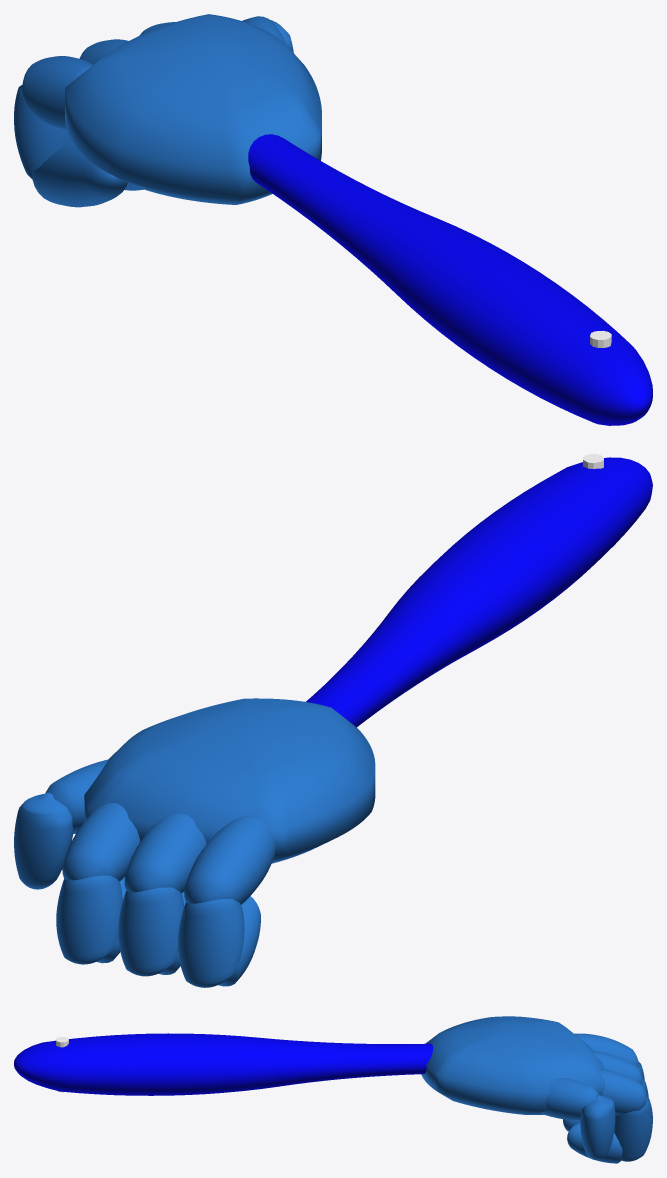
The model's file is hand_left_bot.obj.
3 views of the same model, one above another, from view 1: azimuth 30°, elevation 25°; view 2: azimuth 150°, elevation 25°; view 3: azimuth 270°, elevation 25° (orthographic). The views are drawn at different scales.
Visible parts, largest first — view 1: Mesh1 Component_6_1 Component_35_1 Component_1_1 Model, Mesh13 Component_14_1 mao1 Component_35_1 Component_1_1 Model, Mesh12 Component_12_3 Group4 mao1 Component_35_1 Component_1_1 M, Mesh10 Component_11_6 Group4 mao1 Component_35_1 Component_1_1 M, Mesh11 Component_11_7 Group4 mao1 Component_35_1 Component_1_1 M, Mesh7 Component_11_4 Group3 mao1 Component_35_1 Component_1_1 Mo; view 2: Mesh1 Component_6_1 Component_35_1 Component_1_1 Model, Mesh13 Component_14_1 mao1 Component_35_1 Component_1_1 Model, Mesh10 Component_11_6 Group4 mao1 Component_35_1 Component_1_1 M, Mesh11 Component_11_7 Group4 mao1 Component_35_1 Component_1_1 M, Mesh5 Component_11_3 Group2 mao1 Component_35_1 Component_1_1 Mo, Mesh8 Component_11_5 Group3 mao1 Component_35_1 Component_1_1 Mo, Mesh3 Component_10_1 Group1 mao1 Component_35_1 Component_1_1 Mo, Mesh7 Component_11_4 Group3 mao1 Component_35_1 Component_1_1 Mo, Mesh4 Component_11_2 Group2 mao1 Component_35_1 Component_1_1 Mo, Mesh2 Component_11_1 Group1 mao1 Component_35_1 Component_1_1 Mo, Mesh12 Component_12_3 Group4 mao1 Component_35_1 Component_1_1 M; view 3: Mesh1 Component_6_1 Component_35_1 Component_1_1 Model, Mesh13 Component_14_1 mao1 Component_35_1 Component_1_1 Model, Mesh3 Component_10_1 Group1 mao1 Component_35_1 Component_1_1 Mo, Mesh5 Component_11_3 Group2 mao1 Component_35_1 Component_1_1 Mo, Mesh2 Component_11_1 Group1 mao1 Component_35_1 Component_1_1 Mo, Mesh4 Component_11_2 Group2 mao1 Component_35_1 Component_1_1 Mo, Mesh10 Component_11_6 Group4 mao1 Component_35_1 Component_1_1 M, Mesh6 Component_12_1 Group2 mao1 Component_35_1 Component_1_1 Mo, Mesh7 Component_11_4 Group3 mao1 Component_35_1 Component_1_1 Mo.
Part boxes in pixels (bbox=[...]): Mesh1 Component_6_1 Component_35_1 Component_1_1 Model: bbox=[248, 134, 652, 425]; Mesh13 Component_14_1 mao1 Component_35_1 Component_1_1 Model: bbox=[65, 14, 321, 204]; Mesh12 Component_12_3 Group4 mao1 Component_35_1 Component_1_1 M: bbox=[32, 141, 127, 207]; Mesh10 Component_11_6 Group4 mao1 Component_35_1 Component_1_1 M: bbox=[22, 56, 92, 129]; Mesh11 Component_11_7 Group4 mao1 Component_35_1 Component_1_1 M: bbox=[14, 85, 71, 179]; Mesh7 Component_11_4 Group3 mao1 Component_35_1 Component_1_1 Mo: bbox=[79, 39, 128, 64]; Mesh1 Component_6_1 Component_35_1 Component_1_1 Model: bbox=[306, 457, 652, 727]; Mesh13 Component_14_1 mao1 Component_35_1 Component_1_1 Model: bbox=[84, 698, 375, 863]; Mesh10 Component_11_6 Group4 mao1 Component_35_1 Component_1_1 M: bbox=[184, 815, 275, 904]; Mesh11 Component_11_7 Group4 mao1 Component_35_1 Component_1_1 M: bbox=[178, 899, 244, 987]; Mesh5 Component_11_3 Group2 mao1 Component_35_1 Component_1_1 Mo: bbox=[56, 875, 122, 964]; Mesh8 Component_11_5 Group3 mao1 Component_35_1 Component_1_1 Mo: bbox=[118, 887, 184, 976]; Mesh3 Component_10_1 Group1 mao1 Component_35_1 Component_1_1 Mo: bbox=[14, 792, 73, 889]; Mesh7 Component_11_4 Group3 mao1 Component_35_1 Component_1_1 Mo: bbox=[124, 813, 206, 893]; Mesh4 Component_11_2 Group2 mao1 Component_35_1 Component_1_1 Mo: bbox=[62, 803, 139, 881]; Mesh2 Component_11_1 Group1 mao1 Component_35_1 Component_1_1 Mo: bbox=[45, 759, 108, 833]; Mesh12 Component_12_3 Group4 mao1 Component_35_1 Component_1_1 M: bbox=[218, 896, 260, 986]; Mesh1 Component_6_1 Component_35_1 Component_1_1 Model: bbox=[14, 1033, 433, 1095]; Mesh13 Component_14_1 mao1 Component_35_1 Component_1_1 Model: bbox=[421, 1016, 604, 1114]; Mesh3 Component_10_1 Group1 mao1 Component_35_1 Component_1_1 Mo: bbox=[580, 1094, 615, 1160]; Mesh5 Component_11_3 Group2 mao1 Component_35_1 Component_1_1 Mo: bbox=[614, 1096, 652, 1161]; Mesh2 Component_11_1 Group1 mao1 Component_35_1 Component_1_1 Mo: bbox=[541, 1078, 598, 1120]; Mesh4 Component_11_2 Group2 mao1 Component_35_1 Component_1_1 Mo: bbox=[599, 1069, 646, 1115]; Mesh10 Component_11_6 Group4 mao1 Component_35_1 Component_1_1 M: bbox=[574, 1033, 638, 1067]; Mesh6 Component_12_1 Group2 mao1 Component_35_1 Component_1_1 Mo: bbox=[567, 1123, 622, 1163]; Mesh7 Component_11_4 Group3 mao1 Component_35_1 Component_1_1 Mo: bbox=[592, 1051, 642, 1084].
Bounding box in the file's own units: 0.0704 × 0.0496 × 0.2398.
